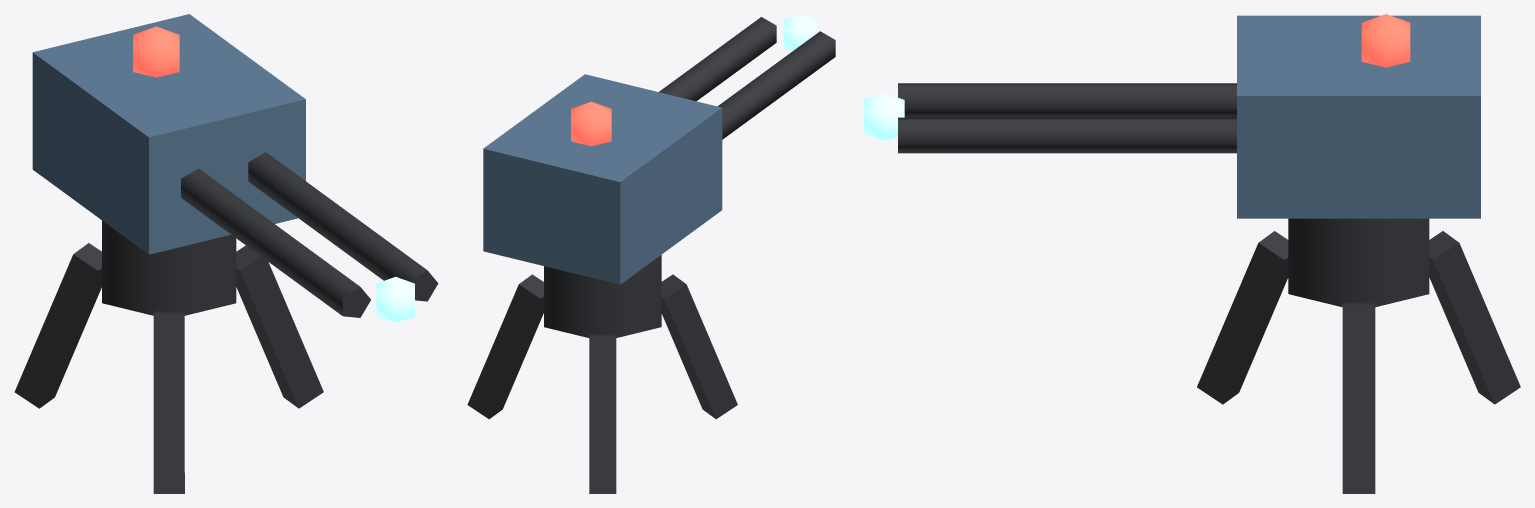
The model's file is unit_mil_sentry_a09.glb.
3 renders of one model, left to right at view 1: azimuth 30°, elevation 25°; view 2: azimuth 150°, elevation 25°; view 3: azimuth 270°, elevation 25°, orthographic. The views are drawn at different scales.
Visible parts, largest first — view 1: turret, body; view 2: turret, body; view 3: turret, body.
Part boxes in pixels (x1,y1,x2,y2): turret: [32, 14, 438, 323]; body: [14, 220, 323, 493]; turret: [483, 14, 835, 284]; body: [467, 255, 737, 493]; turret: [864, 14, 1480, 218]; body: [1197, 218, 1520, 493].
Size of what is drawn, in the model's own units: 1.04 by 1.69 by 2.42.
